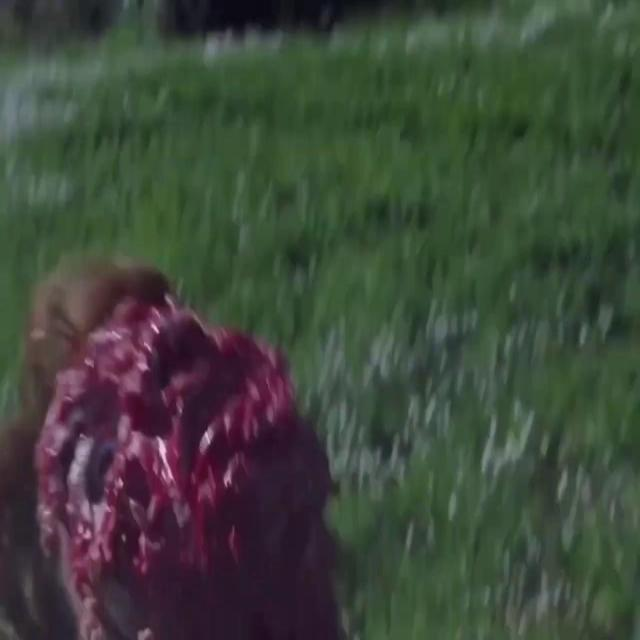flood: (43, 298, 324, 614)
